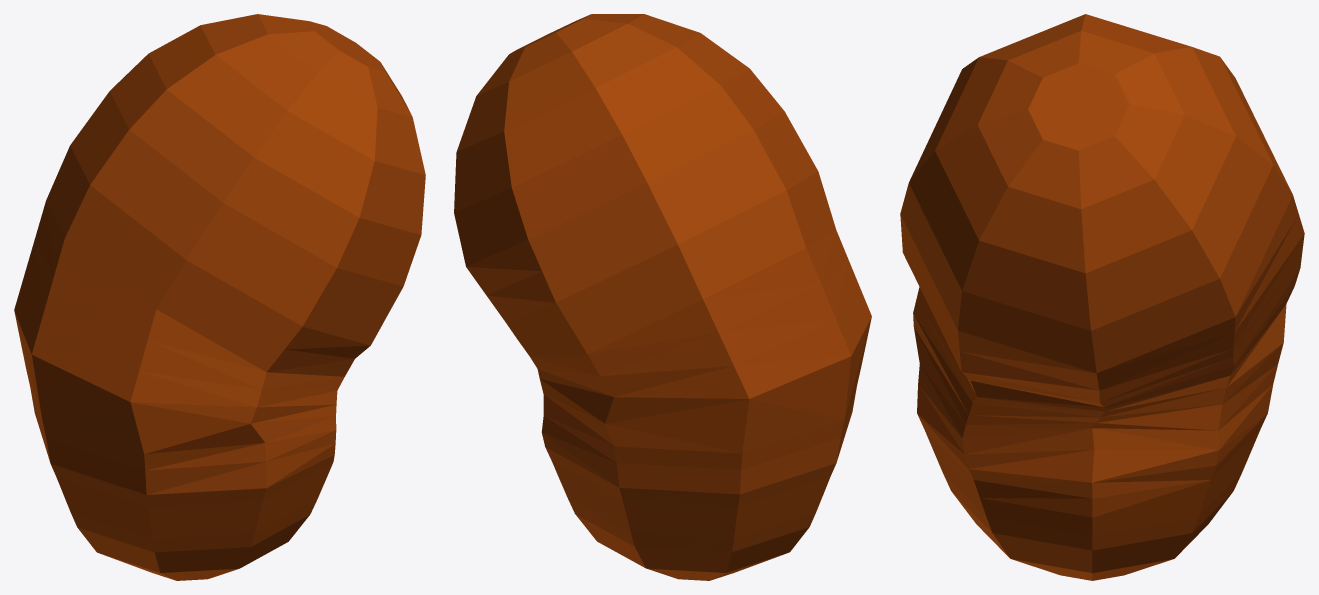
The model's file is Patato.fbx.
The picture shows the model from 3 angles, left to right: view 1: azimuth 30°, elevation 25°; view 2: azimuth 150°, elevation 25°; view 3: azimuth 270°, elevation 25°; orthographic projection. The views are drawn at different scales.
Parts seen in each view (by area): view 1: Cylinder.001; view 2: Cylinder.001; view 3: Cylinder.001.
Boxes of the visible parts, x1,y1,x2,y2 form: Cylinder.001: (14,14,425,580); Cylinder.001: (454,14,871,580); Cylinder.001: (900,14,1304,580).
Size of the model in its own units: 324 by 427 by 274.
